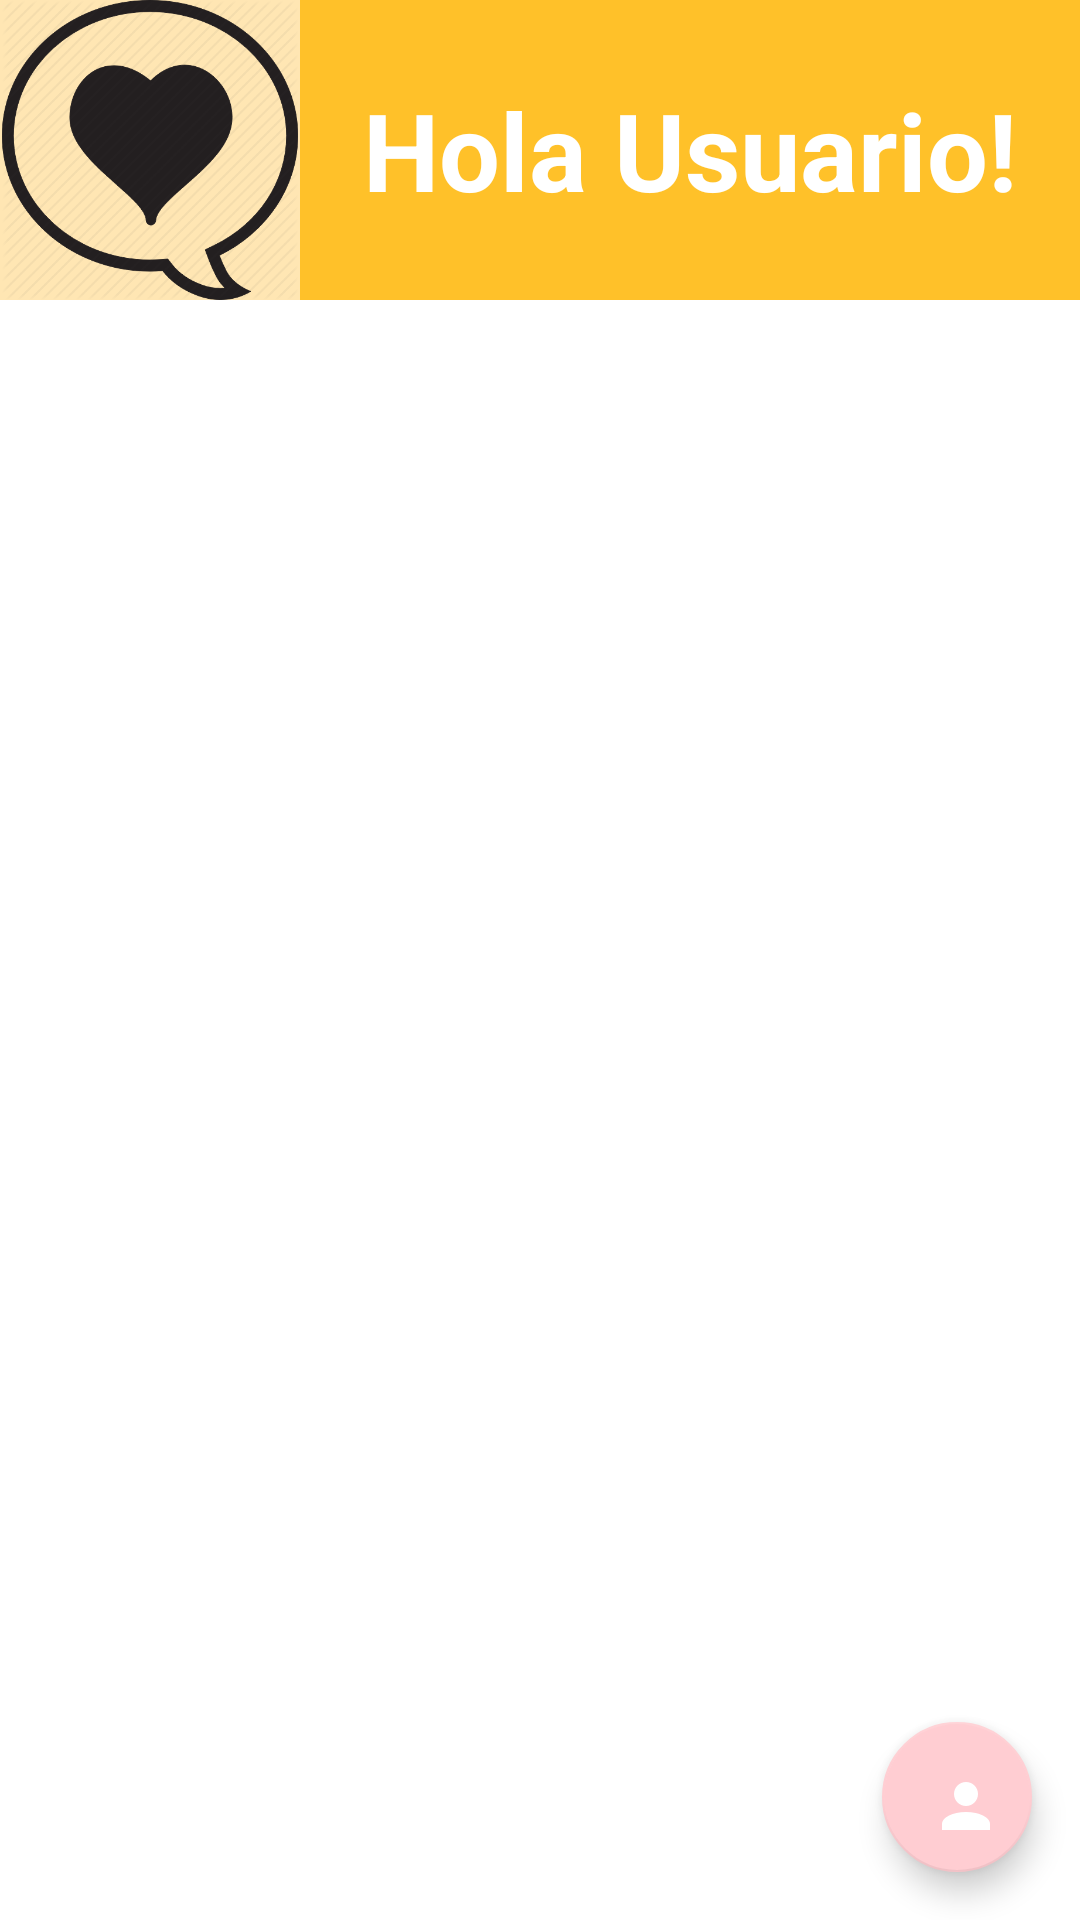

Screen size 1080 x 1920. Icon name, then its center in pixels as (x=x, y=y):
heart: (x=150, y=150)
manuser: (x=957, y=1797)
